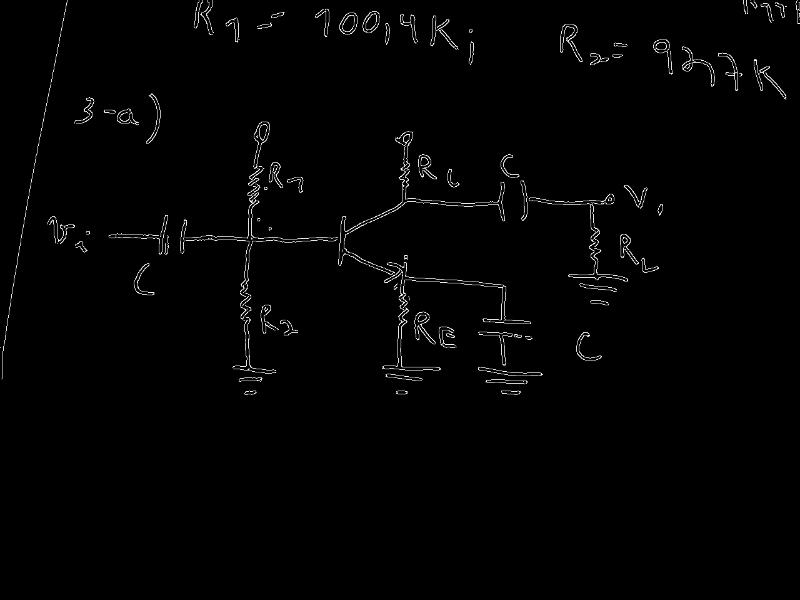-: (254, 21, 274, 30), (612, 39, 629, 48), (270, 10, 286, 19), (103, 108, 117, 115), (611, 52, 625, 59)
0: (361, 8, 382, 34), (338, 10, 358, 37)
1: (313, 6, 332, 39), (224, 16, 243, 44), (285, 173, 306, 197), (759, 1, 775, 24)
2: (278, 317, 301, 339), (588, 51, 612, 66)
3: (679, 43, 717, 88), (70, 95, 95, 127)
4: (398, 11, 419, 46)
7: (716, 51, 744, 92)
9: (652, 37, 674, 77)
V: (43, 215, 77, 247), (621, 182, 649, 209)
k: (751, 58, 787, 101), (429, 13, 459, 51)
